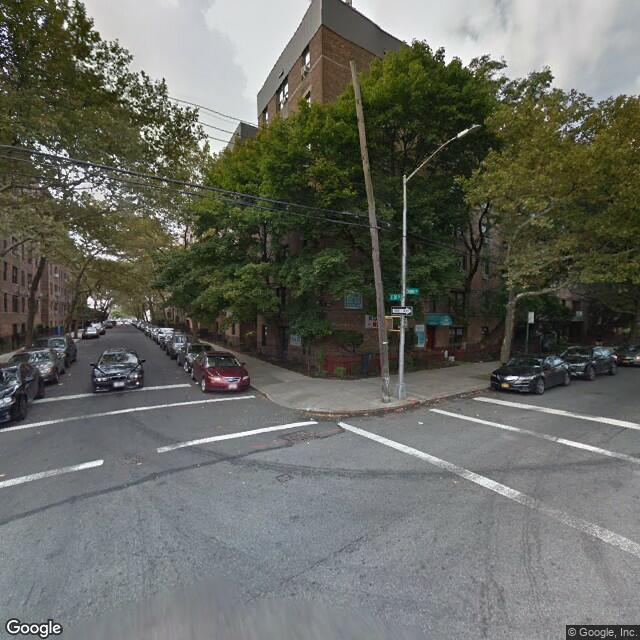litter: (454, 389, 476, 395), (132, 459, 139, 467), (63, 370, 69, 377), (58, 380, 64, 386), (417, 419, 422, 423)
